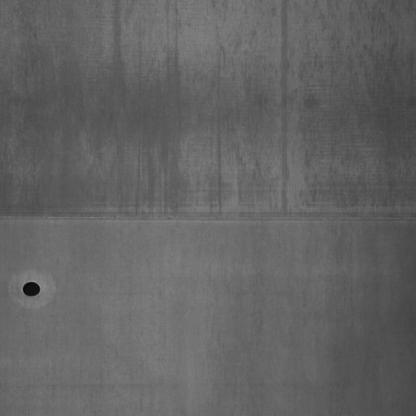punching_hole: (17, 271, 45, 300)
welding_line: (1, 203, 416, 231)
